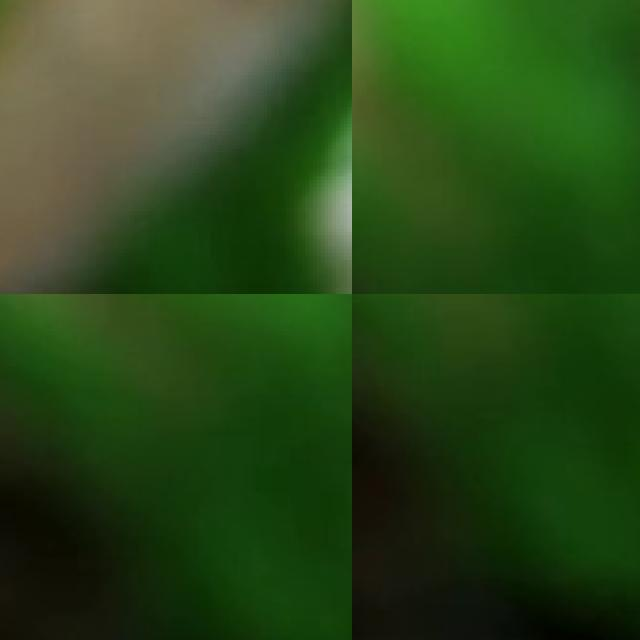fish: (0, 0, 352, 294)
